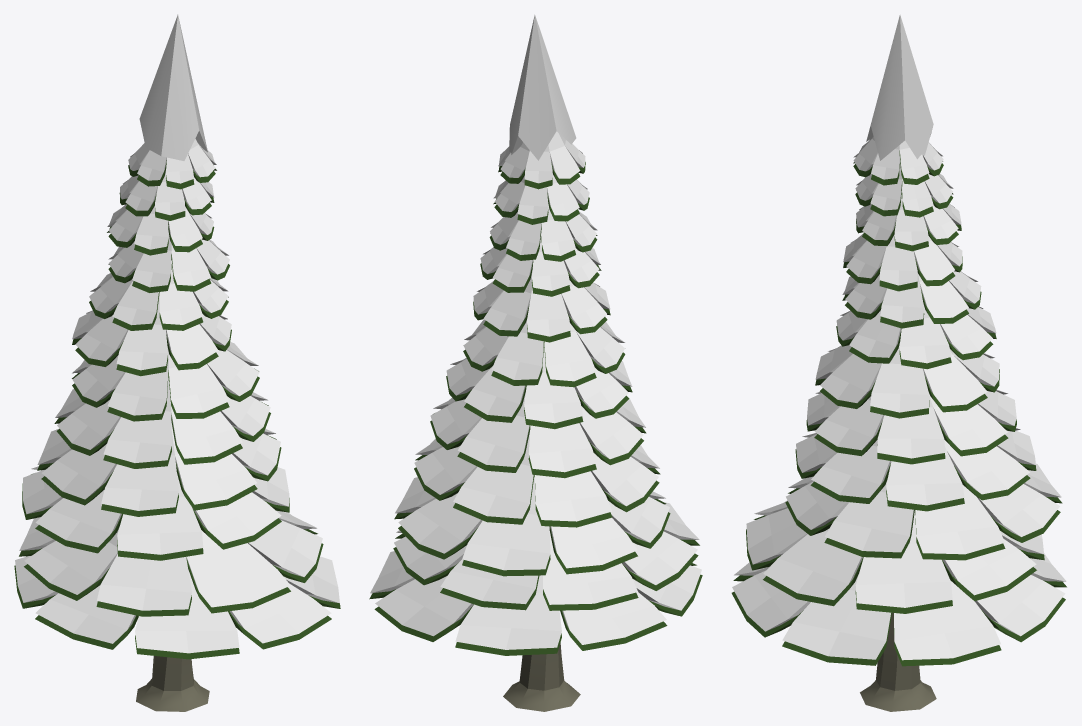
Rendered from blender env assets tree 1.fbx.
The picture shows the model from 3 angles, left to right: view 1: azimuth 30°, elevation 25°; view 2: azimuth 150°, elevation 25°; view 3: azimuth 270°, elevation 25°; orthographic projection.
Parts seen in each view (by area): view 1: Cylinder.033; view 2: Cylinder.033; view 3: Cylinder.033.
Part boxes in pixels (x1,y1,x2,y2): Cylinder.033: (14, 14, 340, 711); Cylinder.033: (369, 14, 702, 711); Cylinder.033: (731, 14, 1066, 711).
Size of the model in its own units: 122 by 275 by 122.
